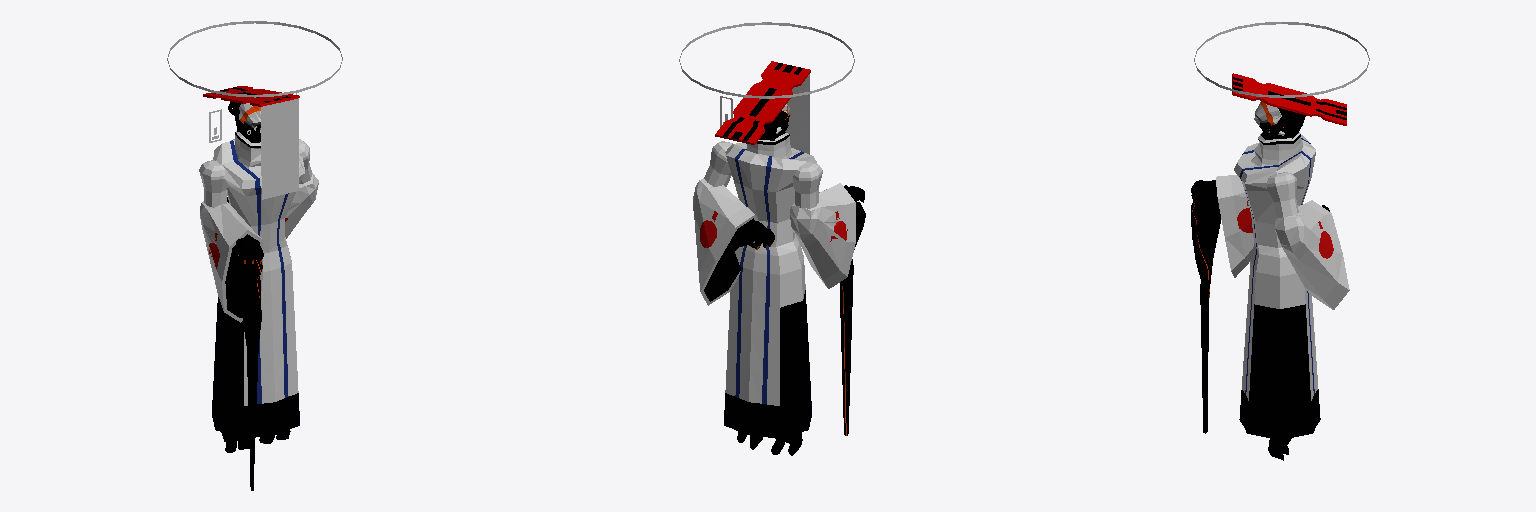
The model's file is DRIZZLE.obj.
3 views of the same model, side by side, from view 1: azimuth 30°, elevation 25°; view 2: azimuth 150°, elevation 25°; view 3: azimuth 270°, elevation 25° (orthographic).
Visible parts, largest first — view 1: Cube_Cube.001, Plane.001, Cube.009_Cube.006, Cube.005_Cube.009, Cube.007_Cube.005, Cube.004_Cube.006, Plane, Circle_Circle.002, Cube.001_Cube.002; view 2: Cube_Cube.001, Cube.004_Cube.006, Cube.009_Cube.006, Plane, Cube.005_Cube.009, Plane.001, Cube.007_Cube.005, Circle_Circle.002, Cube.003_Cube.005, Cube.001_Cube.002; view 3: Cube_Cube.001, Cube.004_Cube.006, Cube.005_Cube.009, Cube.009_Cube.006, Plane, Cube.001_Cube.002, Cube.003_Cube.005, Circle_Circle.002, Cube.002_Cube.003, Cube.025_Cube.008.
Part boxes in pixels (x1,y1,x2,y2): Cube_Cube.001: (212, 139, 304, 438); Plane.001: (261, 98, 298, 199); Cube.009_Cube.006: (200, 201, 262, 322); Cube.005_Cube.009: (232, 255, 262, 490); Cube.007_Cube.005: (199, 160, 228, 207); Cube.004_Cube.006: (285, 173, 318, 238); Plane: (203, 86, 299, 106); Circle_Circle.002: (167, 21, 342, 97); Cube.001_Cube.002: (235, 131, 260, 171); Cube_Cube.001: (724, 143, 816, 438); Cube.004_Cube.006: (693, 178, 758, 305); Cube.009_Cube.006: (790, 183, 855, 288); Plane: (715, 61, 810, 144); Cube.005_Cube.009: (840, 202, 865, 435); Plane.001: (785, 74, 809, 154); Cube.007_Cube.005: (793, 162, 822, 208); Circle_Circle.002: (679, 22, 854, 98); Cube.003_Cube.005: (704, 141, 732, 186); Cube.001_Cube.002: (747, 132, 793, 158); Cube_Cube.001: (1234, 135, 1320, 439); Cube.004_Cube.006: (1275, 200, 1349, 309); Cube.005_Cube.009: (1191, 197, 1220, 433); Cube.009_Cube.006: (1216, 175, 1253, 277); Plane: (1232, 73, 1346, 125); Cube.001_Cube.002: (1251, 132, 1300, 166); Cube.003_Cube.005: (1267, 172, 1298, 217); Circle_Circle.002: (1194, 22, 1369, 97); Cube.002_Cube.003: (1264, 108, 1305, 139); Cube.025_Cube.008: (1254, 101, 1284, 135).
Bounding box in the file's own units: 0.8866 × 2.2 × 0.9059.